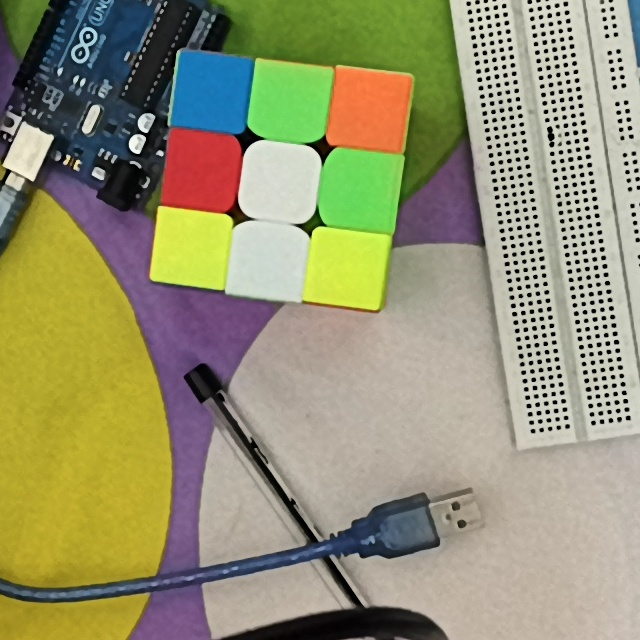tile: (313, 232, 378, 301), (180, 57, 244, 127), (340, 77, 403, 147), (257, 72, 325, 133), (331, 160, 393, 223), (162, 217, 225, 279), (170, 137, 230, 202), (237, 231, 297, 293), (254, 149, 310, 212)
